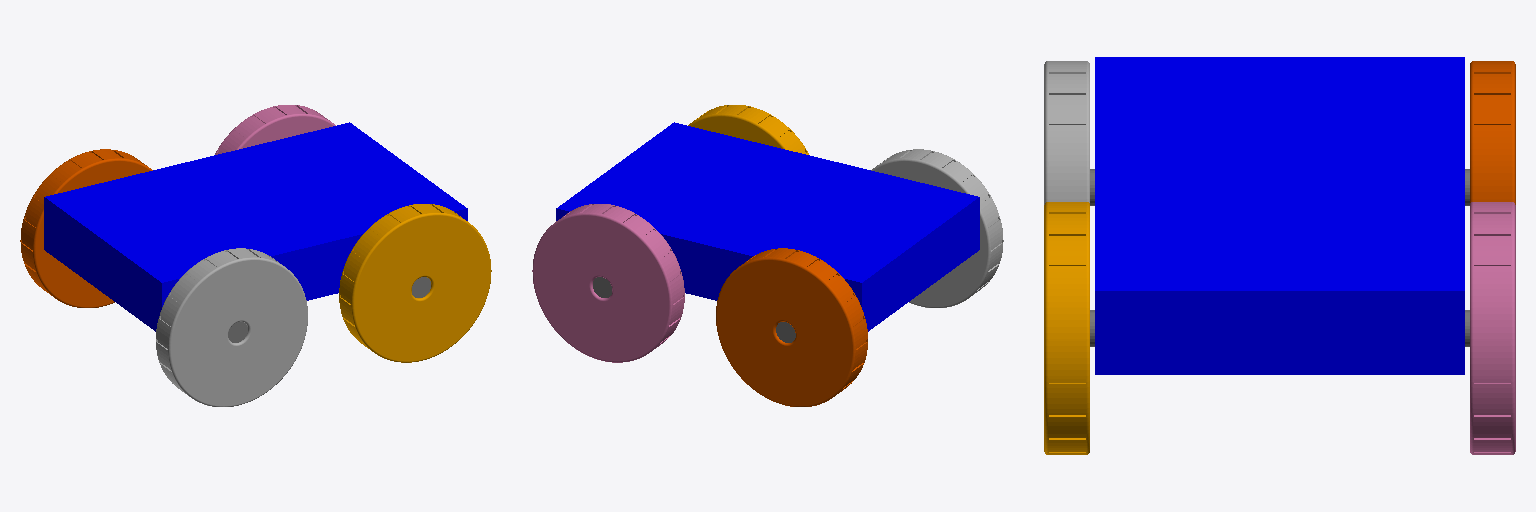
URDF robot description (farad_amr):
<?xml version="1.0"?>
<robot name="farad_amr">

<!-- Base link (chassis) -->
<link name="base_link">
<visual>
<geometry>
<box size="0.6 0.4 0.1"/>
</geometry>
<material name="blue">
<color rgba="0 0 1 1"/>
</material>
</visual>
<collision>
<geometry>
<box size="0.6 0.4 0.1"/>
</geometry>
</collision>
<inertial>
<mass value="10.0"/>
<inertia ixx="0.1" ixy="0.0" ixz="0.0" iyy="0.1" iyz="0.0" izz="0.1"/>
</inertial>
</link>




<!-- Left front shaft -->
<link name="left_front_shaft">
<visual>
<geometry>
<cylinder radius="0.02" length="0.10"/>
</geometry>
<origin xyz="0 0 0" rpy="1.5708 0 0"/>
<material name="gray">
<color rgba="0.5 0.5 0.5 1"/>
</material>
</visual>
<collision>
<geometry>
<cylinder radius="0.02" length="0.10"/>
</geometry>
<origin xyz="0 0 0" rpy="1.5708 0 0"/>
</collision>
<inertial>
<mass value="0.2"/>
<inertia ixx="0.01" ixy="0.0" ixz="0.0" iyy="0.01" iyz="0.0" izz="0.01"/>
</inertial>
</link>

<!-- Left rear shaft -->
<link name="left_rear_shaft">
<visual>
<geometry>
<cylinder radius="0.02" length="0.10"/>
</geometry>
<origin xyz="0 0 0" rpy="1.5708 0 0"/>
<material name="gray">
<color rgba="0.5 0.5 0.5 1"/>
</material>
</visual>
<collision>
<geometry>
<cylinder radius="0.02" length="0.10"/>
</geometry>
<origin xyz="0 0 0" rpy="1.5708 0 0"/>
</collision>
<inertial>
<mass value="0.2"/>
<inertia ixx="0.01" ixy="0.0" ixz="0.0" iyy="0.01" iyz="0.0" izz="0.01"/>
</inertial>
</link>

<!-- Right front shaft -->
<link name="right_front_shaft">
<visual>
<geometry>
<cylinder radius="0.02" length="0.10"/>
</geometry>
<origin xyz="0 0 0" rpy="1.5708 0 0"/>
<material name="gray">
<color rgba="0.5 0.5 0.5 1"/>
</material>
</visual>
<collision>
<geometry>
<cylinder radius="0.02" length="0.10"/>
</geometry>
<origin xyz="0 0 0" rpy="1.5708 0 0"/>
</collision>
<inertial>
<mass value="0.2"/>
<inertia ixx="0.01" ixy="0.0" ixz="0.0" iyy="0.01" iyz="0.0" izz="0.01"/>
</inertial>
</link>

<!-- Right rear shaft -->
<link name="right_rear_shaft">
<visual>
<geometry>
<cylinder radius="0.02" length="0.10"/>
</geometry>
<origin xyz="0 0 0" rpy="1.5708 0 0"/>
<material name="gray">
<color rgba="0.5 0.5 0.5 1"/>
</material>
</visual>
<collision>
<geometry>
<cylinder radius="0.02" length="0.10"/>
</geometry>
<origin xyz="0 0 0" rpy="1.5708 0 0"/>
</collision>
<inertial>
<mass value="0.2"/>
<inertia ixx="0.01" ixy="0.0" ixz="0.0" iyy="0.01" iyz="0.0" izz="0.01"/>
</inertial>
</link>



<!-- ================= TIRES (MESH) ================= -->

<!-- Left front tire (aligned with shaft, at +Y end) -->
<link name="left_front_tire">
	<inertial>
		<origin xyz="0 0 0"/>
		<mass value="1.0"/>
		<inertia ixx="0.02" iyy="0.02" izz="0.02" ixy="0" ixz="0" iyz="0"/>
	</inertial>
	<visual>
		<origin xyz="0 0.03 0" rpy="1.5708 0 0"/>
		<geometry>
			<mesh filename="tire_8.stl" scale="0.001 0.001 0.001"/>
		</geometry>
	</visual>
	<collision>
		<origin xyz="0 0.03 0" rpy="1.5708 0 0"/>
		<geometry>
			<mesh filename="tire_8.stl" scale="0.001 0.001 0.001"/>
		</geometry>
	</collision>
</link>

<!-- Left rear tire (aligned with shaft, at +Y end) -->
<link name="left_rear_tire">
	<inertial>
		<origin xyz="0 0 0"/>
		<mass value="1.0"/>
		<inertia ixx="0.02" iyy="0.02" izz="0.02" ixy="0" ixz="0" iyz="0"/>
	</inertial>
	<visual>
		<origin xyz="0 0.03 0" rpy="1.5708 0 0"/>
		<geometry>
			<mesh filename="tire_8.stl" scale="0.001 0.001 0.001"/>
		</geometry>
	</visual>
	<collision>
		<origin xyz="0 0.03 0" rpy="1.5708 0 0"/>
		<geometry>
			<mesh filename="tire_8.stl" scale="0.001 0.001 0.001"/>
		</geometry>
	</collision>
</link>

<!-- Right front tire (aligned with shaft, at +Y end) -->
<link name="right_front_tire">
	<inertial>
		<origin xyz="0 0 0"/>
		<mass value="1.0"/>
		<inertia ixx="0.02" iyy="0.02" izz="0.02" ixy="0" ixz="0" iyz="0"/>
	</inertial>
	<visual>
		<origin xyz="0 -0.03 0" rpy="1.5708 0 0"/>
		<geometry>
			<mesh filename="tire_8.stl" scale="0.001 0.001 0.001"/>
		</geometry>
	</visual>
	<collision>
		<origin xyz="0 -0.03 0" rpy="1.5708 0 0"/>
		<geometry>
			<mesh filename="tire_8.stl" scale="0.001 0.001 0.001"/>
		</geometry>
	</collision>
</link>

<!-- Right rear tire (aligned with shaft, at +Y end) -->
<link name="right_rear_tire">
	<inertial>
		<origin xyz="0 0 0"/>
		<mass value="1.0"/>
		<inertia ixx="0.02" iyy="0.02" izz="0.02" ixy="0" ixz="0" iyz="0"/>
	</inertial>
	<visual>
		<origin xyz="0 -0.03 0" rpy="1.5708 0 0"/>
		<geometry>
			<mesh filename="tire_8.stl" scale="0.001 0.001 0.001"/>
		</geometry>
	</visual>
	<collision>
		<origin xyz="0 -0.03 0" rpy="1.5708 0 0"/>
		<geometry>
			<mesh filename="tire_8.stl" scale="0.001 0.001 0.001"/>
		</geometry>
	</collision>
</link>



<!-- ================= SHAFTS AND TIRES ASSEMBLY ================= -->

<!-- Left front shaft (front left corner) -->
<joint name="base_link_to_left_front_shaft" type="fixed">
	<parent link="base_link"/>
	<child link="left_front_shaft"/>
	<origin xyz="-0.18 0.2 -0.05" rpy="0 0 0"/>
</joint>

<!-- Attach left front tire to shaft with continuous joint (rotates freely) -->
<joint name="left_front_shaft_to_tire" type="continuous">
	<parent link="left_front_shaft"/>
	<child link="left_front_tire"/>
	<!-- Tire is placed at end of shaft, so no offset needed -->
	<origin xyz="0 0 0" rpy="0 0 0"/>
	<axis xyz="0 1 0"/>
</joint>

<!-- Left rear shaft (rear left corner) -->
<joint name="base_link_to_left_rear_shaft" type="fixed">
	<parent link="base_link"/>
	<child link="left_rear_shaft"/>
	<origin xyz="0.18 0.2 -0.05" rpy="0 0 0"/>
</joint>

<!-- Attach left rear tire to shaft with continuous joint -->
<joint name="left_rear_shaft_to_tire" type="continuous">
	<parent link="left_rear_shaft"/>
	<child link="left_rear_tire"/>
	<origin xyz="0 0 0" rpy="0 0 0"/>
	<axis xyz="0 1 0"/>
</joint>

<!-- Right front shaft (front right corner) -->
<joint name="base_link_to_right_front_shaft" type="fixed">
	<parent link="base_link"/>
	<child link="right_front_shaft"/>
	<origin xyz="-0.18 -0.2 -0.05" rpy="0 0 0"/>
</joint>

<!-- Attach right front tire to shaft with continuous joint -->
<joint name="right_front_shaft_to_tire" type="continuous">
	<parent link="right_front_shaft"/>
	<child link="right_front_tire"/>
	<origin xyz="0 0 0" rpy="0 0 0"/>
	<axis xyz="0 1 0"/>
</joint>

<!-- Right rear shaft (rear right corner) -->
<joint name="base_link_to_right_rear_shaft" type="fixed">
	<parent link="base_link"/>
	<child link="right_rear_shaft"/>
	<origin xyz="0.18 -0.2 -0.05" rpy="0 0 0"/>
</joint>

<!-- Attach right rear tire to shaft with continuous joint -->
<joint name="right_rear_shaft_to_tire" type="continuous">
	<parent link="right_rear_shaft"/>
	<child link="right_rear_tire"/>
	<origin xyz="0 0 0" rpy="0 0 0"/>
	<axis xyz="0 1 0"/>
</joint>

</robot>

--- Facts derived from the render (not from the file) ---
Views: 3 orthographic renders of the robot side by side, from view 1: azimuth 30°, elevation 25°; view 2: azimuth 150°, elevation 25°; view 3: azimuth 270°, elevation 25°.
Model farad_amr with 9 links and 8 joints (4 continuous, 4 fixed), rooted at base_link, posed every joint at zero.
Links seen in each view (by area): view 1: base_link, right_front_tire, right_rear_tire, left_front_tire, left_rear_tire; view 2: base_link, left_front_tire, left_rear_tire, right_front_tire, right_rear_tire; view 3: base_link, left_rear_tire, right_rear_tire, left_front_tire, right_front_tire.
Link boxes in pixels (left/top/right/bottom): base_link: left=44, top=122, right=467, bottom=331; right_front_tire: left=156, top=248, right=307, bottom=406; right_rear_tire: left=339, top=204, right=491, bottom=362; left_front_tire: left=20, top=149, right=152, bottom=307; left_rear_tire: left=215, top=105, right=335, bottom=154; base_link: left=556, top=122, right=979, bottom=331; left_front_tire: left=716, top=248, right=867, bottom=406; left_rear_tire: left=532, top=204, right=684, bottom=362; right_front_tire: left=871, top=149, right=1003, bottom=307; right_rear_tire: left=688, top=105, right=808, bottom=154; base_link: left=1095, top=57, right=1464, bottom=374; left_rear_tire: left=1470, top=202, right=1515, bottom=454; right_rear_tire: left=1044, top=202, right=1089, bottom=454; left_front_tire: left=1470, top=61, right=1515, bottom=204; right_front_tire: left=1044, top=61, right=1089, bottom=204.
Size in the robot's own frame: 0.6341 by 0.5094 by 0.2741 metres.
4 mesh visuals loaded from 1 distinct referenced files (1 binary STL).
